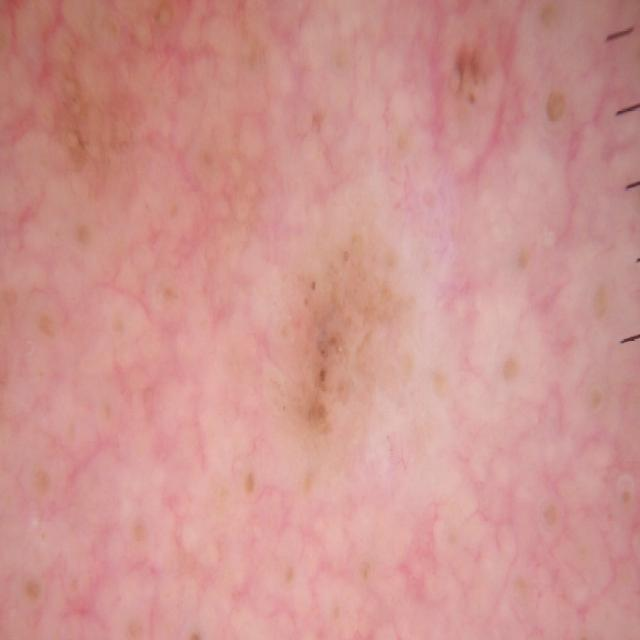Melanoma: (57, 141, 588, 640)
